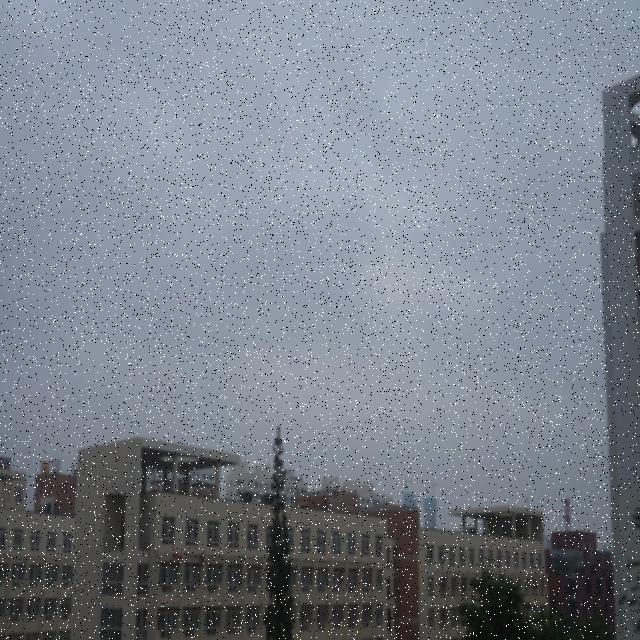UAV: (321, 482, 347, 502)
